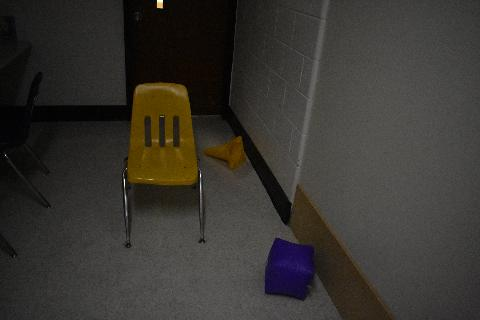cone: (262, 236, 316, 302), (203, 136, 247, 170)
